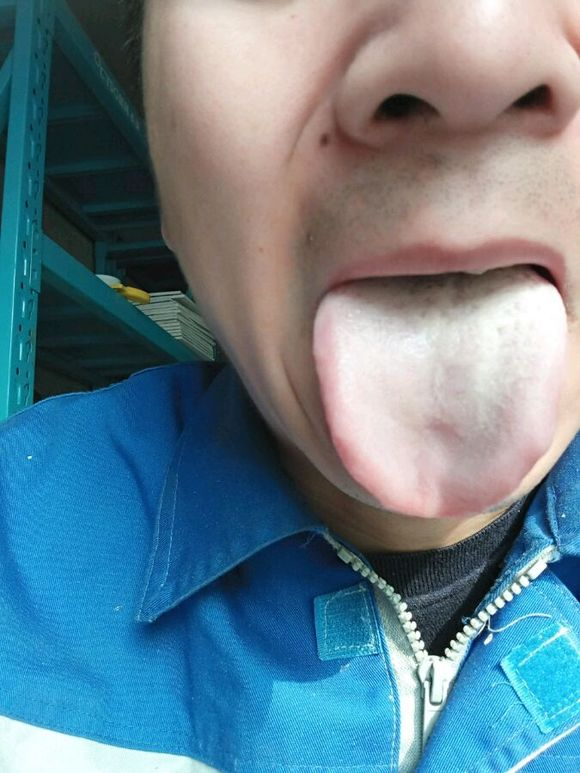baitaishe: (314, 273, 569, 518)
chihenshe: (507, 404, 560, 498)
pangdashe: (314, 273, 569, 518)
